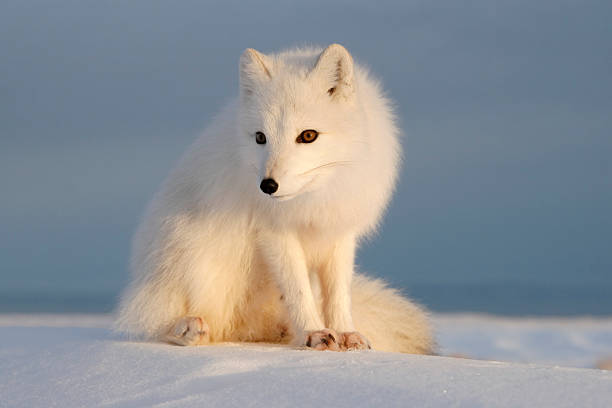arcticfox: (223, 67, 358, 227)
